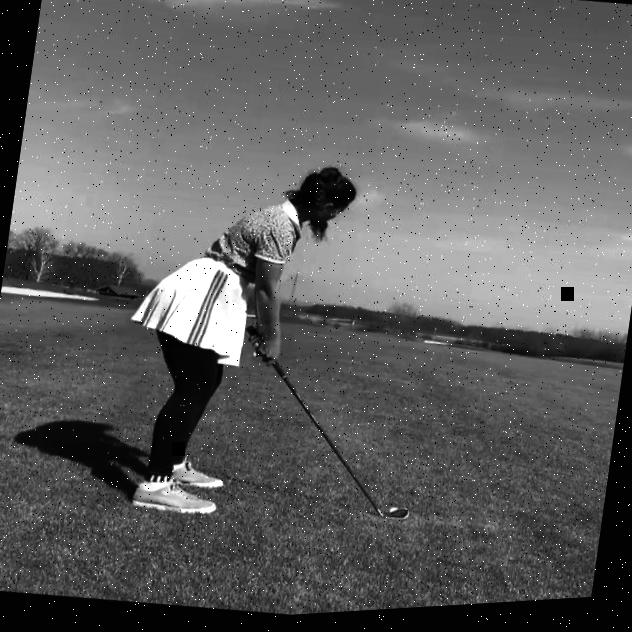ClubHead: (384, 509, 412, 526)
GolfBall: (387, 510, 397, 517)
